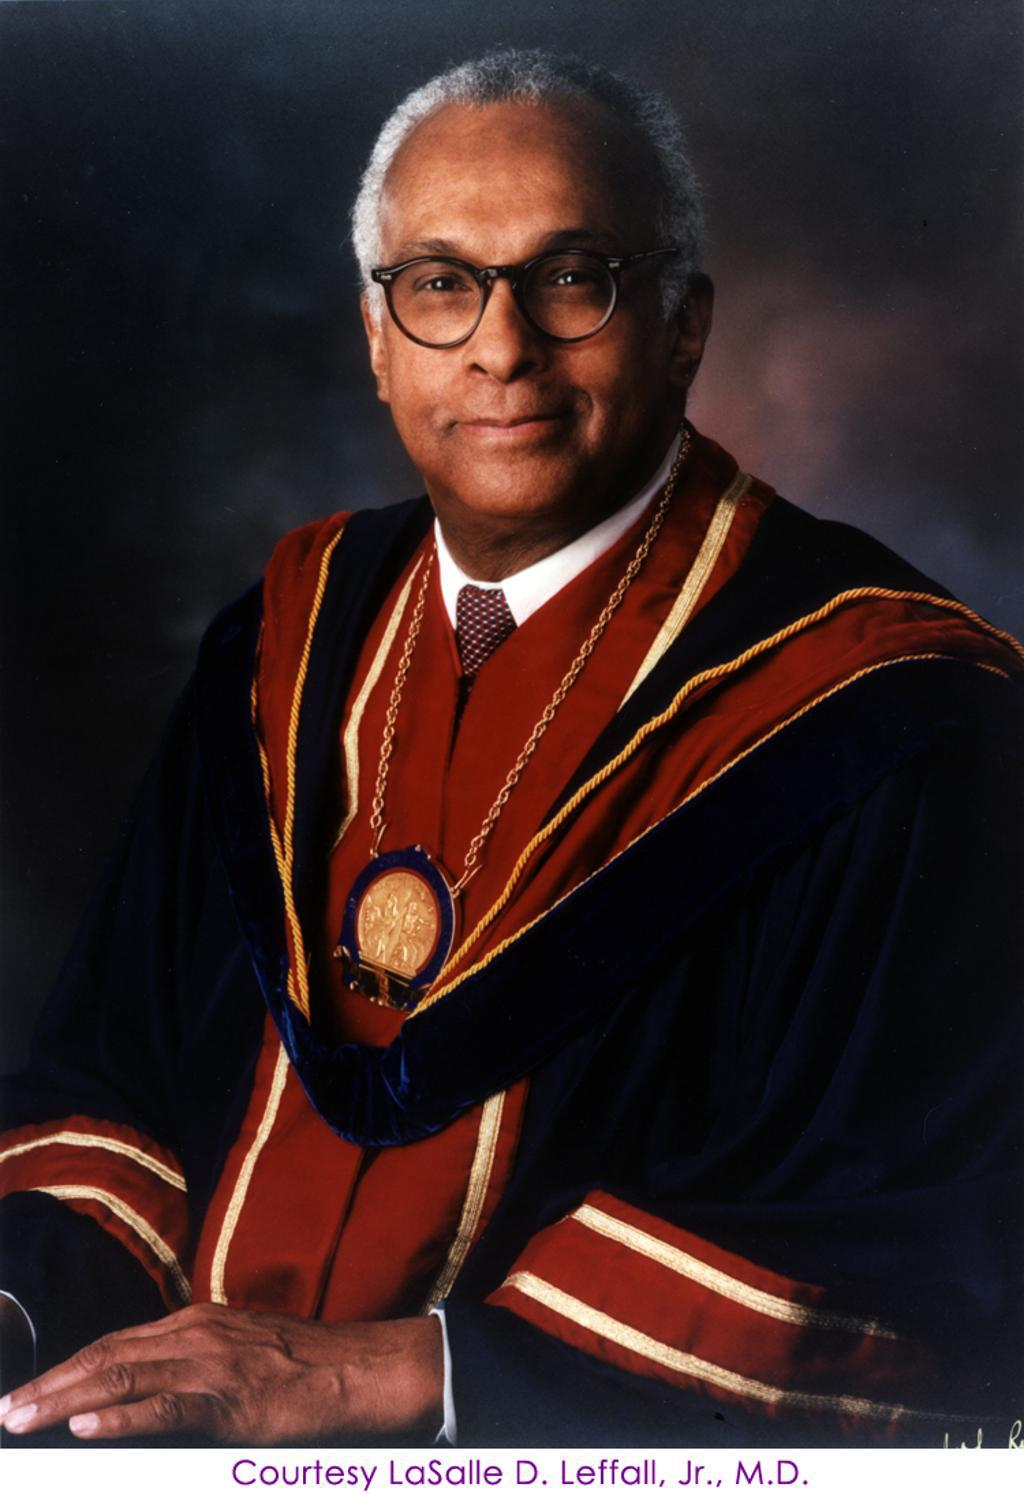face: (380, 138, 657, 511)
